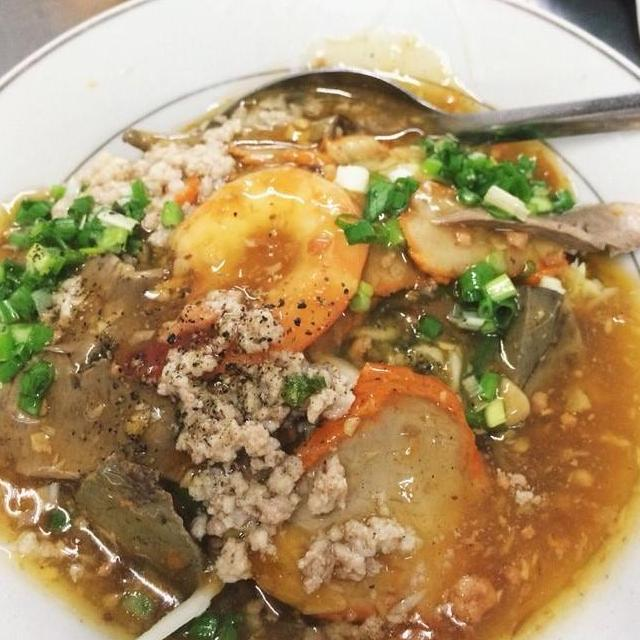gan: (0, 248, 261, 491), (58, 436, 226, 607), (425, 174, 640, 264)
thit bam: (152, 284, 431, 598), (71, 101, 251, 257), (226, 594, 419, 640)
thit heo: (235, 352, 506, 629), (393, 169, 586, 289)
tom: (118, 155, 380, 396)
